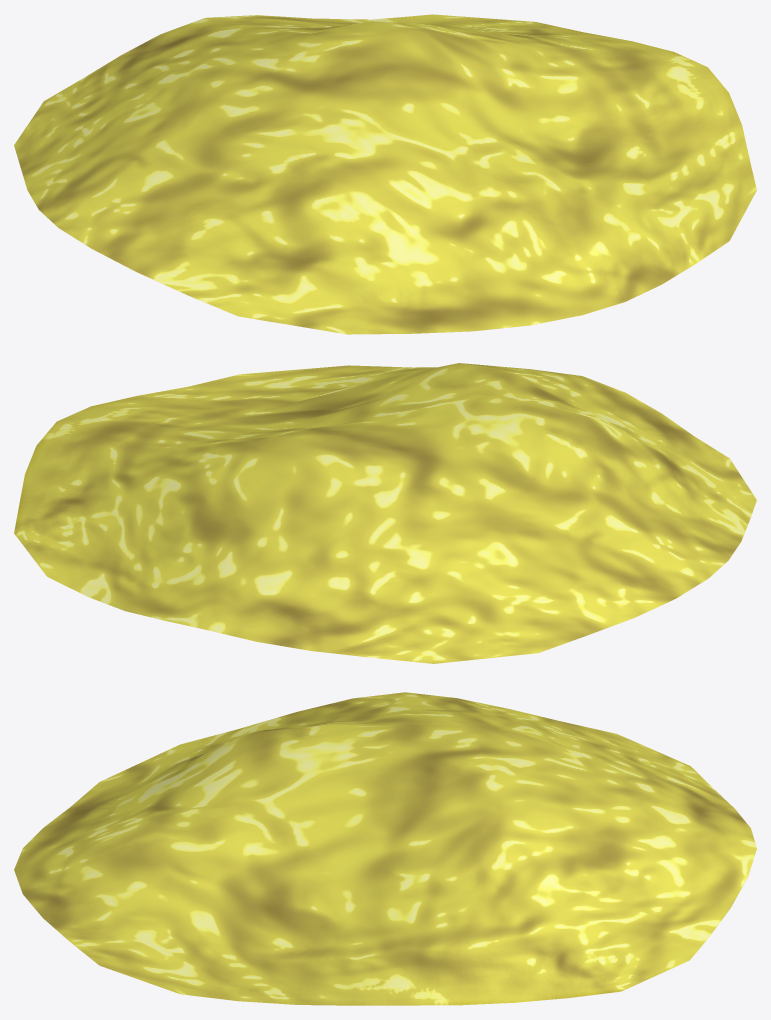
The model's file is srcambled eggs.fbx.
3 views of the same model, one above another, from view 1: azimuth 30°, elevation 25°; view 2: azimuth 150°, elevation 25°; view 3: azimuth 270°, elevation 25° (orthographic).
Parts seen in each view (by area): view 1: pPlane1; view 2: pPlane1; view 3: pPlane1.
Boxes of the visible parts, left/top/right/bottom form: pPlane1: left=14, top=14, right=756, bottom=334; pPlane1: left=14, top=363, right=756, bottom=663; pPlane1: left=14, top=692, right=756, bottom=1005.
Bounding box in the file's own units: 28.52 × 4.13 × 28.58.
